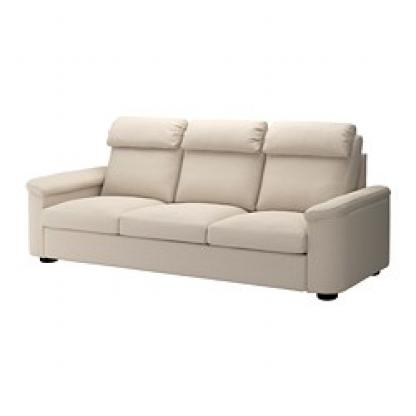Sofa: (20, 95, 396, 301)
